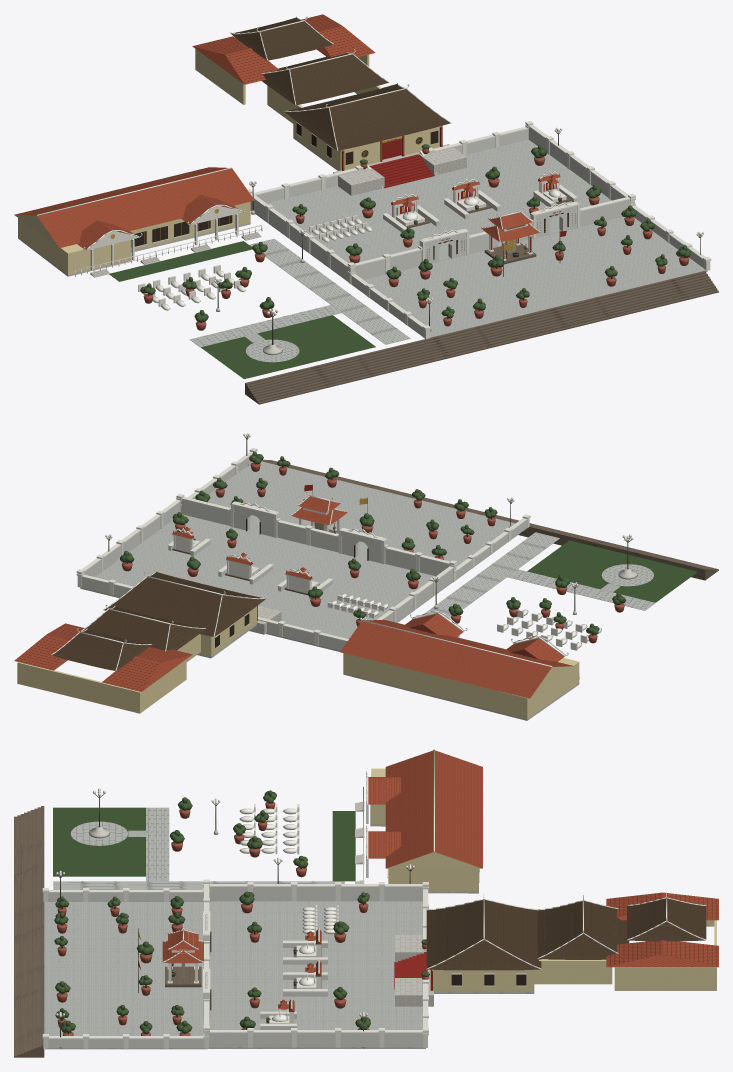
Rendered from thoai-ngoc-hau.glb.
3 views of the same model, one above another, from view 1: azimuth 30°, elevation 25°; view 2: azimuth 150°, elevation 25°; view 3: azimuth 270°, elevation 25° (orthographic). The views are drawn at different scales.
Parts seen in each view (by area): view 1: thoai-ngoc-hau-near; view 2: thoai-ngoc-hau-near; view 3: thoai-ngoc-hau-near.
Part boxes in pixels (bbox=[...]): thoai-ngoc-hau-near: bbox=[14, 14, 718, 404]; thoai-ngoc-hau-near: bbox=[14, 433, 718, 720]; thoai-ngoc-hau-near: bbox=[14, 749, 718, 1057].
Bounding box in the file's own units: 78.14 × 11.92 × 90.75.
1 material, 1 textured.
